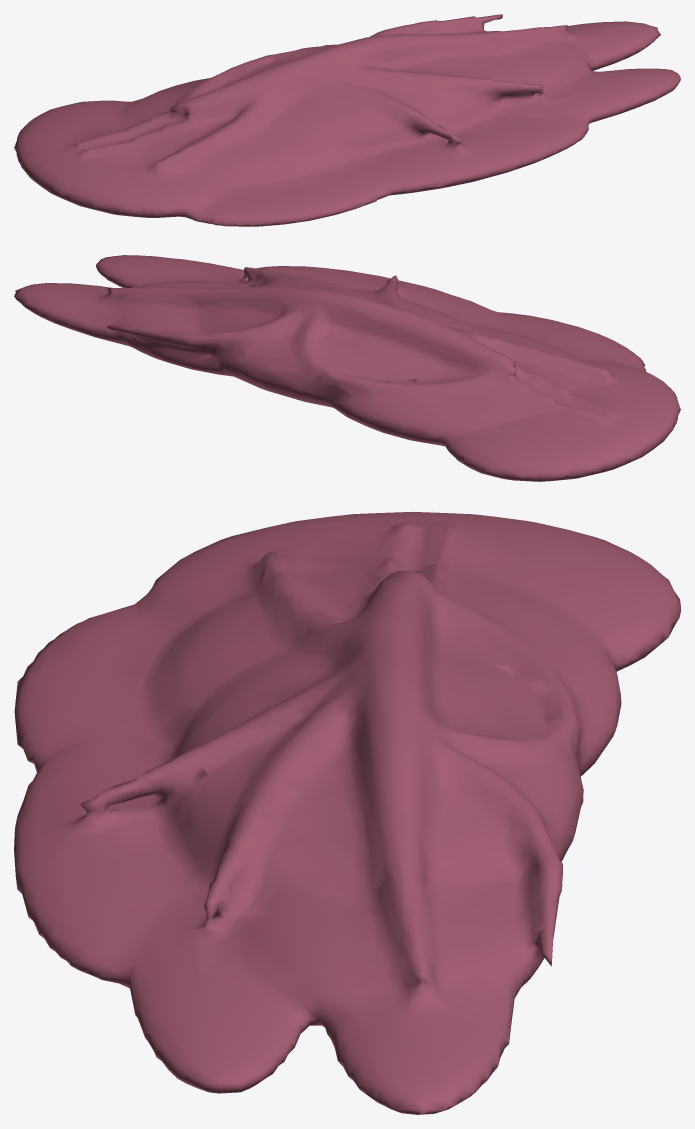
File: plasmodial_tissue_lod1.glb
The picture shows the model from 3 angles, top to bottom: view 1: azimuth 30°, elevation 25°; view 2: azimuth 150°, elevation 25°; view 3: azimuth 270°, elevation 25°; orthographic projection. The views are drawn at different scales.
Parts seen in each view (by area): view 1: Watertight_Plasmodium.001; view 2: Watertight_Plasmodium.001; view 3: Watertight_Plasmodium.001.
Boxes of the visible parts, x1,y1,x2,y2 form: Watertight_Plasmodium.001: [14, 14, 680, 226]; Watertight_Plasmodium.001: [14, 255, 680, 481]; Watertight_Plasmodium.001: [14, 511, 680, 1114].
Bounding box in the file's own units: 5.91 × 0.8087 × 2.81.
